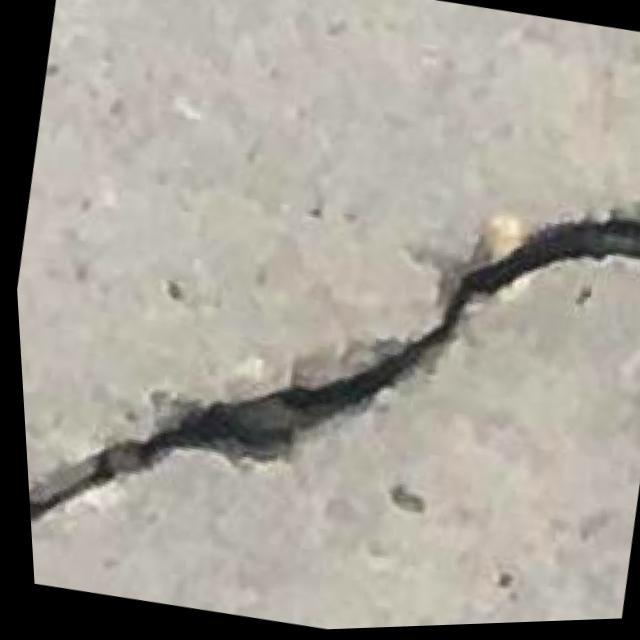Crack: (5, 86, 640, 640)
